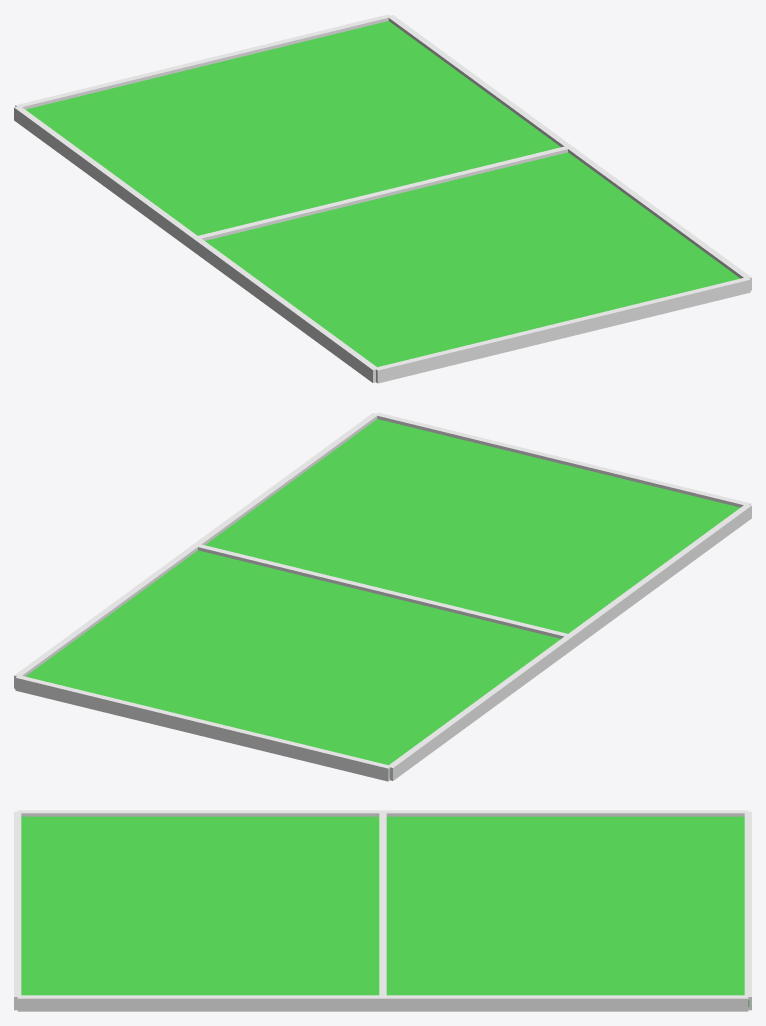
File: Field.glb
3 renders of one model, top to bottom at view 1: azimuth 30°, elevation 25°; view 2: azimuth 150°, elevation 25°; view 3: azimuth 270°, elevation 25°, orthographic.
Parts seen in each view (by area): view 1: Field, Lines; view 2: Field, Lines; view 3: Field, Lines.
Boxes of the visible parts, box(x1,y1,x2,y2) form: Field: box(26, 21, 740, 367); Lines: box(14, 14, 751, 383); Field: box(25, 419, 739, 776); Lines: box(14, 412, 751, 781); Field: box(21, 816, 749, 1006); Lines: box(14, 810, 751, 1011).
Size of the model in its own units: 122 by 4 by 202.
